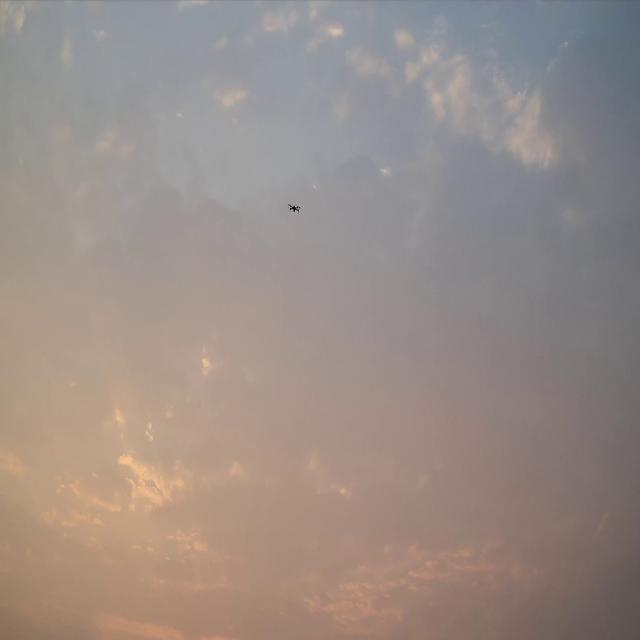UAV: (287, 202, 301, 214)
